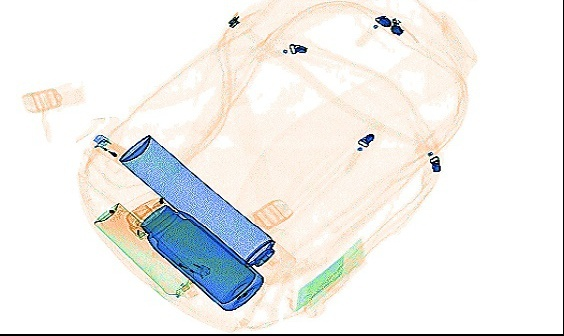lighter: (89, 131, 138, 167), (164, 252, 210, 278)
pressure: (118, 131, 297, 285), (92, 199, 199, 301)
